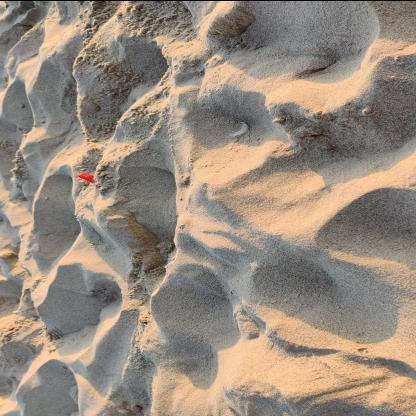diger: (79, 172, 96, 184)
